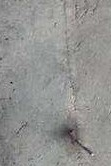Exposed reinforcement: (66, 131, 93, 155)
